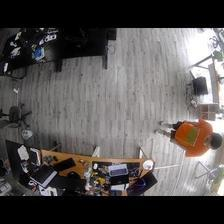normal: (152, 119, 224, 156)
